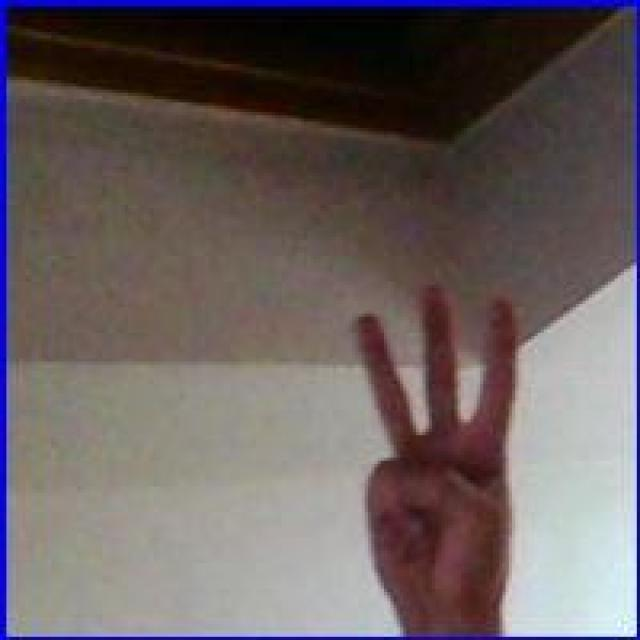W: (350, 282, 520, 595)
